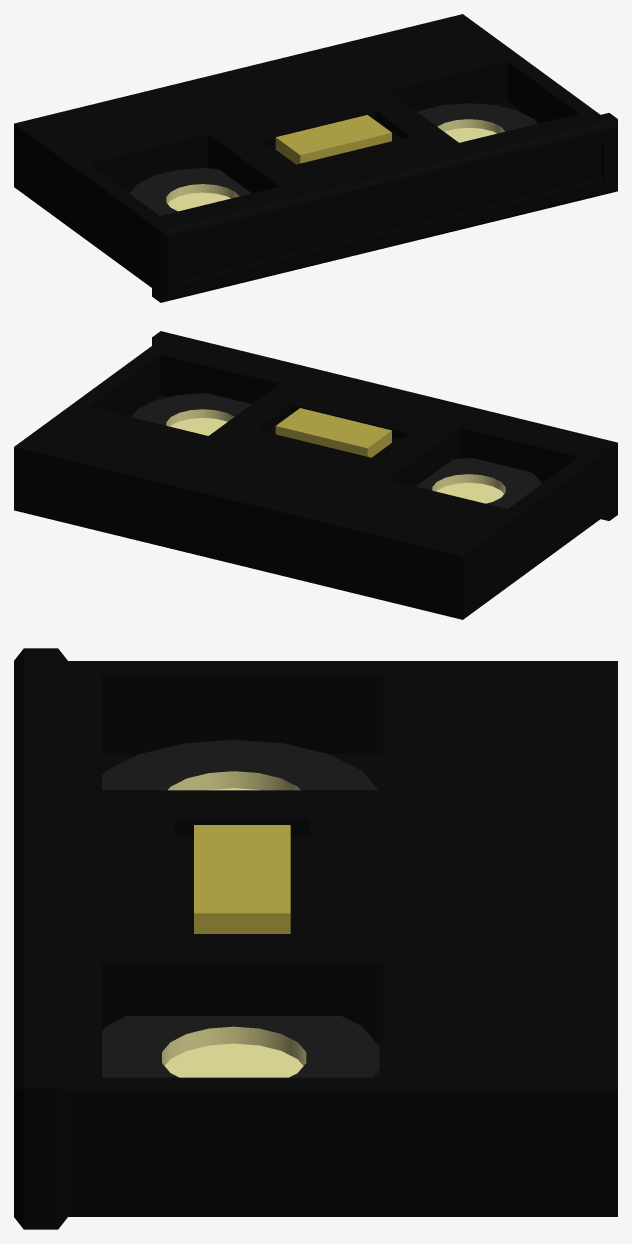
Rendered from CintaVideo.fbx.
3 views of the same model, one above another, from view 1: azimuth 30°, elevation 25°; view 2: azimuth 150°, elevation 25°; view 3: azimuth 270°, elevation 25° (orthographic). The views are drawn at different scales.
Visible parts, largest first — view 1: Box208; view 2: Box208; view 3: Box208.
Part boxes in pixels (bbox=[...]): Box208: bbox=[14, 14, 617, 302]; Box208: bbox=[14, 331, 617, 619]; Box208: bbox=[14, 648, 617, 1229].
Size of the model in its own units: 11.24 by 1.7 by 6.53.
